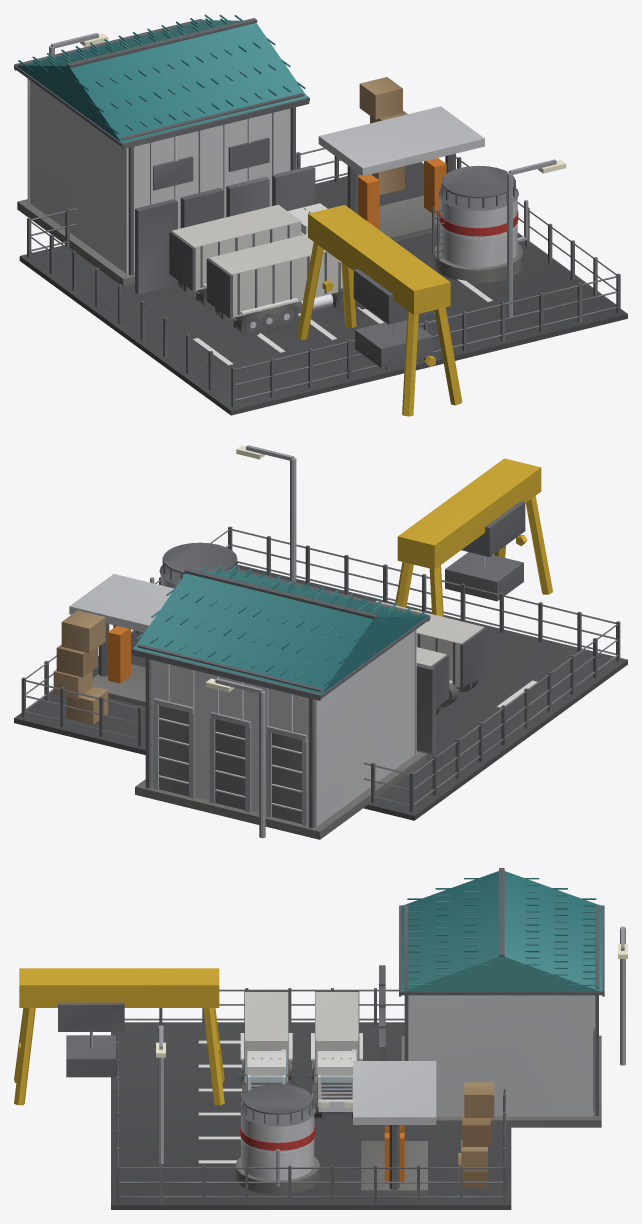
Rendered from Fleet_P3.fbx.
3 views of the same model, one above another, from view 1: azimuth 30°, elevation 25°; view 2: azimuth 150°, elevation 25°; view 3: azimuth 270°, elevation 25° (orthographic). The views are drawn at different scales.
Parts seen in each view (by area): view 1: Fleet.Garage, Fleet.Yard, Fleet.WashGantry, Fleet.FuelIsland, Fleet.Parked0, Fleet.Fence, Fleet.FuelTank, Fleet.Doors, Fleet.Parked1, Fleet.Crates, Fleet.Lamp1, Fleet.Bays; view 2: Fleet.Garage, Fleet.Yard, Fleet.WashGantry, Fleet.Fence, Fleet.FuelIsland, Fleet.Crates, Fleet.Parked0, Fleet.FuelTank, Fleet.Doors, Fleet.Lamp0, Fleet.Lamp1, Fleet.Parked1; view 3: Fleet.Garage, Fleet.Yard, Fleet.WashGantry, Fleet.FuelIsland, Fleet.FuelTank, Fleet.Fence, Fleet.Parked1, Fleet.Parked0, Fleet.Crates, Fleet.Lamp1, Fleet.Lamp0, Fleet.Bays (+1 smaller).
Boxes of the visible parts, x1,y1,x2,y2 form: Fleet.Garage: (14,14,309,286); Fleet.Yard: (19,162,627,415); Fleet.WashGantry: (296,205,462,416); Fleet.FuelIsland: (318,106,484,241); Fleet.Parked0: (206,234,367,337); Fleet.Fence: (27,147,620,407); Fleet.FuelTank: (432,165,528,282); Fleet.Doors: (135,165,315,294); Fleet.Parked1: (169,203,327,310); Fleet.Crates: (359,77,407,194); Fleet.Lamp1: (507,159,566,317); Fleet.Bays: (193,279,492,365); Fleet.Garage: (131,565,430,839); Fleet.Yard: (14,564,627,820); Fleet.WashGantry: (395,458,552,616); Fleet.Fence: (21,526,620,812); Fleet.FuelIsland: (69,574,174,706); Fleet.Crates: (53,610,108,724); Fleet.Parked0: (375,600,486,707); Fleet.FuelTank: (150,542,240,588); Fleet.Doors: (416,663,435,753); Fleet.Lamp0: (205,678,265,838); Fleet.Lamp1: (236,445,296,582); Fleet.Parked1: (416,647,449,714); Fleet.Garage: (399,868,604,1127); Fleet.Yard: (111,1022,511,1209); Fleet.WashGantry: (14,968,224,1105); Fleet.FuelIsland: (353,1061,436,1194); Fleet.FuelTank: (235,1084,319,1194); Fleet.Fence: (116,988,505,1202); Fleet.Parked1: (308,991,362,1118); Fleet.Parked0: (238,991,294,1105); Fleet.Crates: (458,1082,494,1186); Fleet.Lamp1: (156,1025,165,1164); Fleet.Lamp0: (618,926,627,1065); Fleet.Bays: (198,1040,241,1163).
Size of the model in its own units: 2600 by 1183 by 3682.
